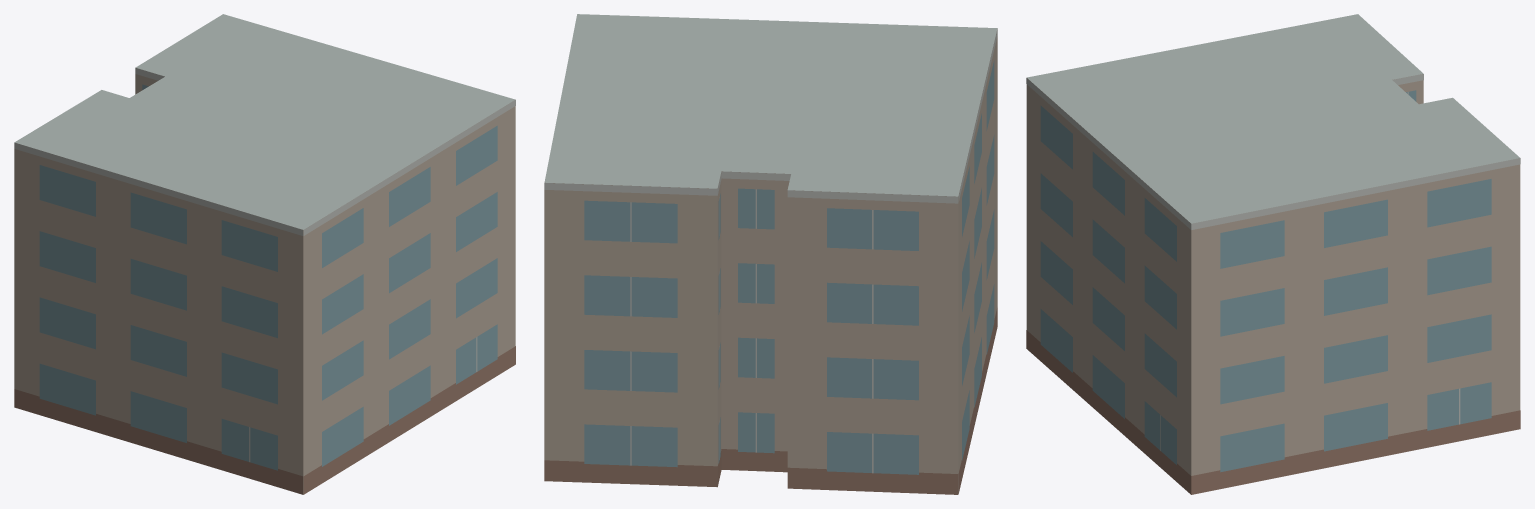
The model's file is survey-upis-32726669.glb.
3 views of the same model, side by side, from view 1: azimuth 30°, elevation 25°; view 2: azimuth 150°, elevation 25°; view 3: azimuth 270°, elevation 25° (orthographic). The views are drawn at different scales.
Visible parts, largest first — view 1: survey-upis-32726669.tmp; view 2: survey-upis-32726669.tmp; view 3: survey-upis-32726669.tmp.
Part boxes in pixels (left/top/right/bottom): survey-upis-32726669.tmp: left=14, top=14, right=515, bottom=494; survey-upis-32726669.tmp: left=544, top=14, right=997, bottom=494; survey-upis-32726669.tmp: left=1026, top=14, right=1520, bottom=494.
Bounding box in the file's own units: 17.1 × 10.3 × 17.02.
